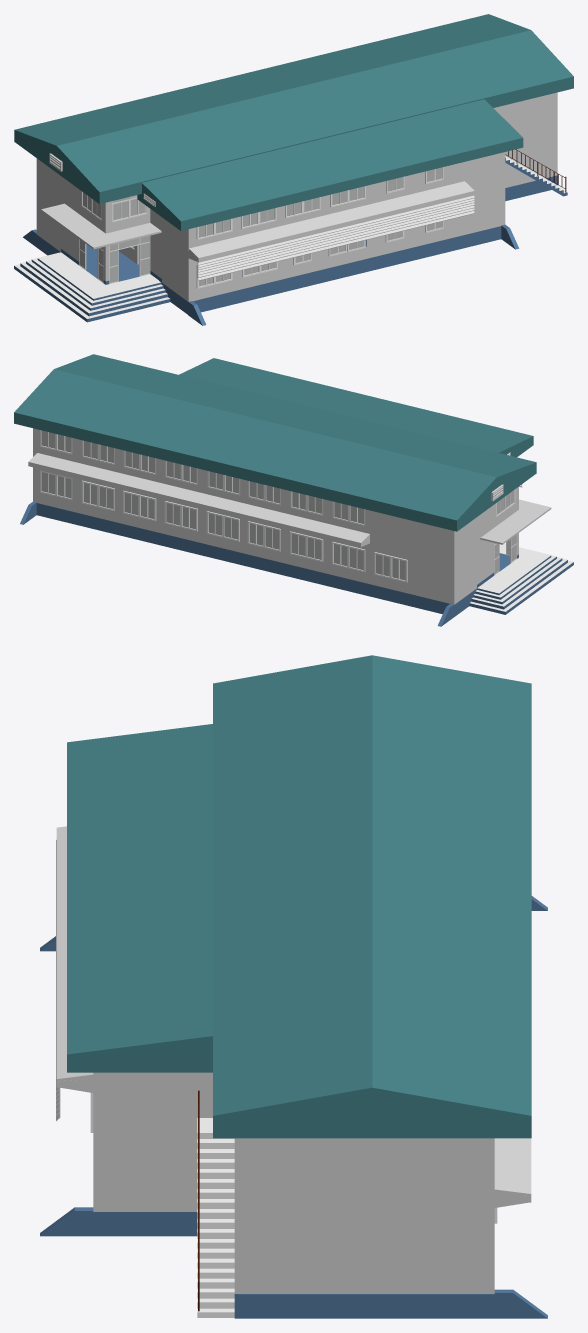
Rendered from CEIT_BUILDING.glb.
3 views of the same model, one above another, from view 1: azimuth 30°, elevation 25°; view 2: azimuth 150°, elevation 25°; view 3: azimuth 270°, elevation 25° (orthographic). The views are drawn at different scales.
Parts seen in each view (by area): view 1: Cube, Cube.005, frame out building.002, wall F1.002, wall F2.002, Floor1.002, stairs.002, door1.003, stair back.002, window.034, Cube.003, Cube.006 (+4 smaller); view 2: Cube, wall F1.002, Cube.005, wall F2.002, frame out building.002, Floor1.002, stairs.002, Cube.020, Cube.021, Cube.016, Cube.018, Cube.019 (+13 smaller); view 3: Cube, Cube.005, wall F1.002, wall F2.002, Floor1.002, stair back.002, frame out building.002.
Part boxes in pixels (x1,y1,x2,y2): Cube: (14,14,573,203); Cube.005: (137,99,523,230); frame out building.002: (41,181,474,280); wall F1.002: (36,127,557,301); wall F2.002: (36,92,557,253); Floor1.002: (23,175,557,325); stairs.002: (14,252,170,322); door1.003: (109,236,150,283); stair back.002: (505,149,567,196); window.034: (112,197,147,222); Cube.003: (196,218,232,239); Cube.006: (285,197,320,218); Cube: (14,354,536,531); wall F1.002: (33,467,494,604); Cube.005: (179,358,533,457); wall F2.002: (33,428,516,559); frame out building.002: (28,453,551,547); Floor1.002: (20,501,510,626); stairs.002: (469,543,573,614); Cube.020: (206,511,239,541); Cube.021: (164,501,197,531); Cube.016: (374,552,407,582); Cube.018: (290,531,323,561); Cube.019: (247,521,280,551); Cube: (213,655,531,1138); Cube.005: (67,724,212,1072); wall F1.002: (93,1122,494,1293); wall F2.002: (93,1072,494,1204); Floor1.002: (40,896,547,1318); stair back.002: (197,1090,234,1317); frame out building.002: (56,826,531,1207).
Bounding box in the file's own units: 43.82 × 10.78 × 20.61.
